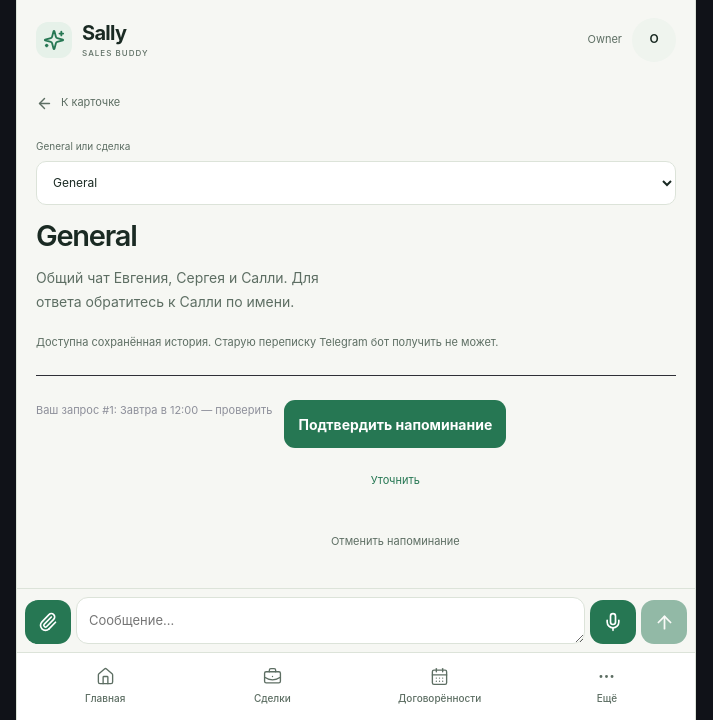
Test case: Sally review uses the shared confirmation controls
Click the button "Подтвердить напоминание". click: point(395, 424)
box: [284, 400, 506, 448]
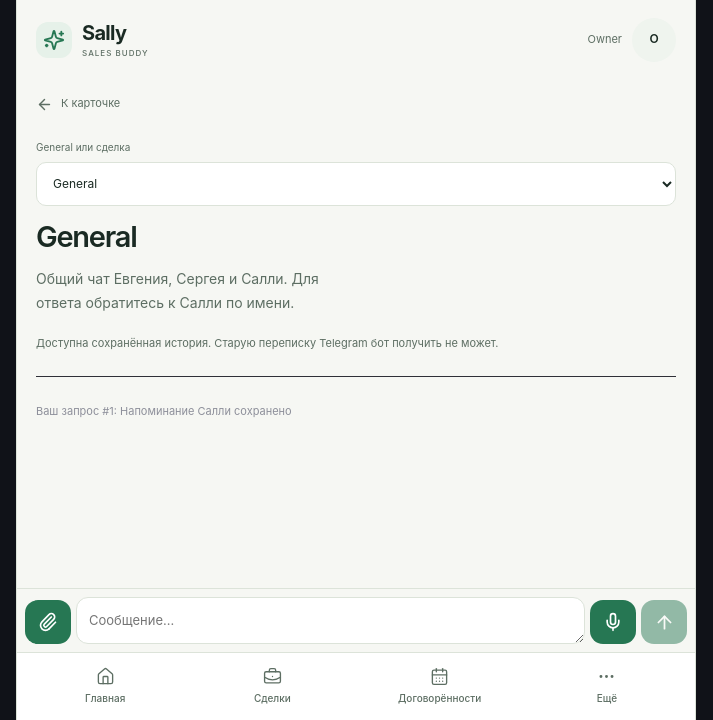
Now the text "Ваш запрос #1: Напоминание Салли сохранено" is shown, box [36, 402, 292, 422]
